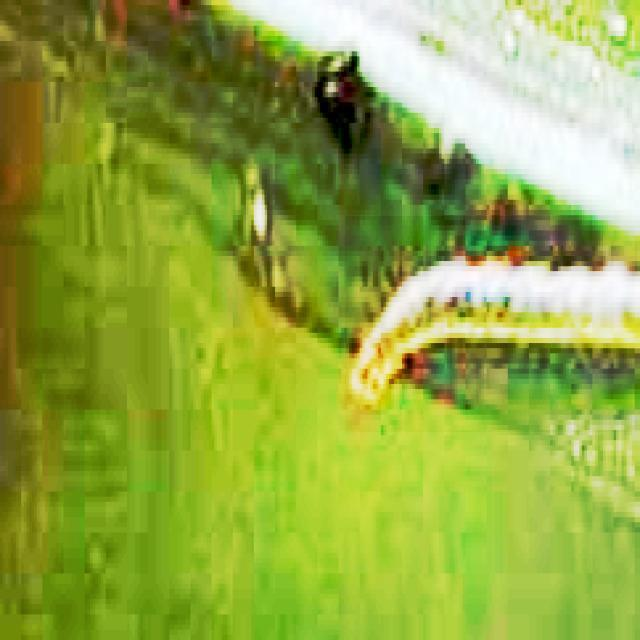leaf-folder: (345, 216, 640, 432)
